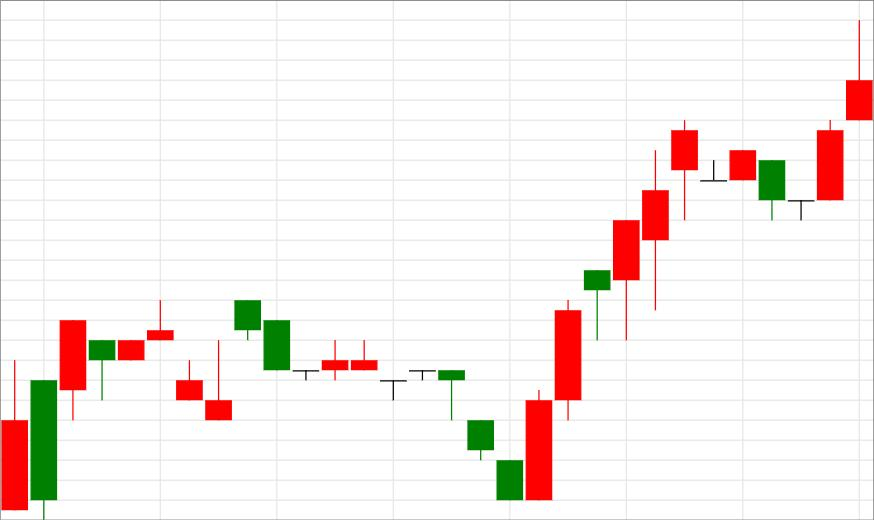bullish_engulfing_rise: (235, 300, 552, 500)
